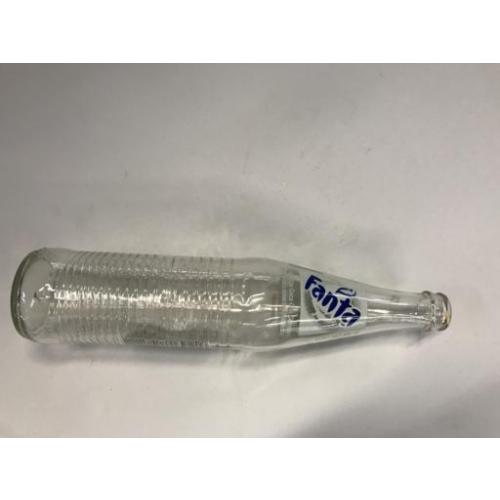glass: (12, 248, 452, 356)
